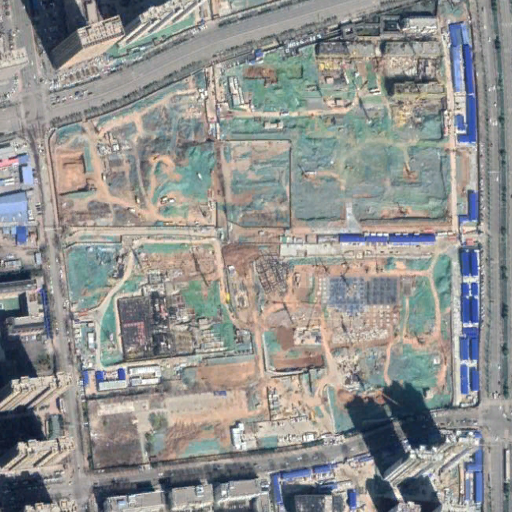cw: (47, 28, 450, 475)
